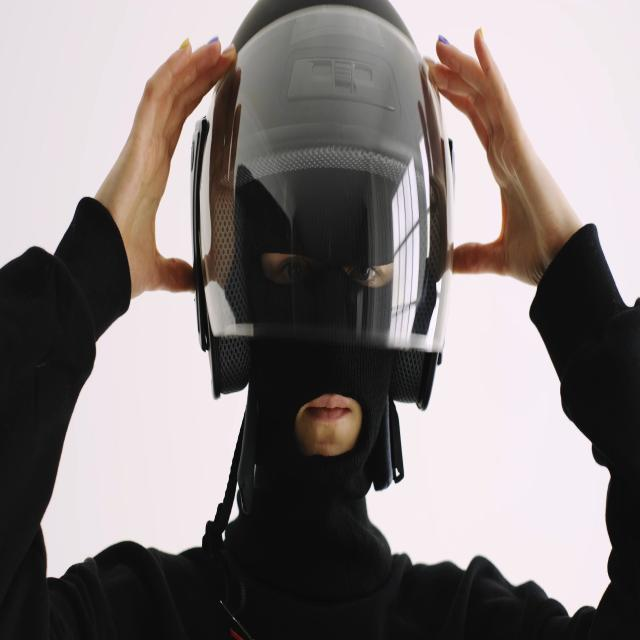Helmet_Wearer: (195, 0, 472, 598)
Person: (0, 0, 640, 640)
